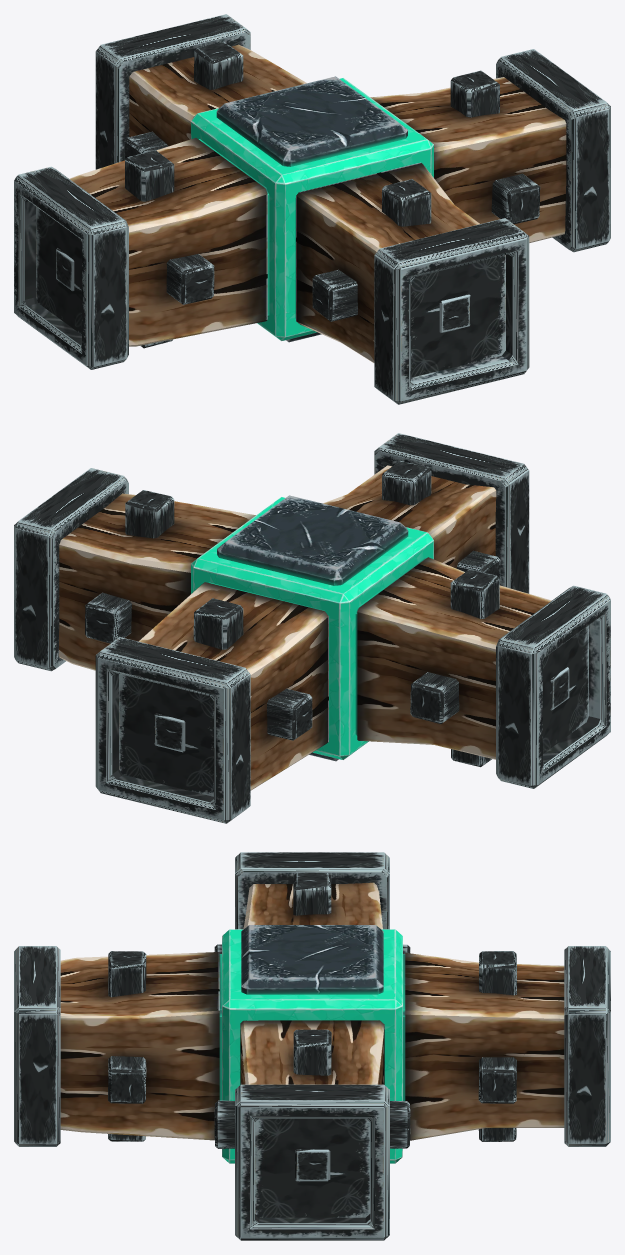
Rendered from step_005.glb.
The picture shows the model from 3 angles, top to bottom: view 1: azimuth 30°, elevation 25°; view 2: azimuth 150°, elevation 25°; view 3: azimuth 270°, elevation 25°; orthographic projection.
Visible parts, largest first — view 1: SingleWoodenBlock_27d09ec1-9df3-475f-a4f9-4b6f61505be6, StartingBlock_71495246-291b-49d8-9ca8-68c87e015d7b; view 2: SingleWoodenBlock_27d09ec1-9df3-475f-a4f9-4b6f61505be6, StartingBlock_71495246-291b-49d8-9ca8-68c87e015d7b; view 3: SingleWoodenBlock_27d09ec1-9df3-475f-a4f9-4b6f61505be6, StartingBlock_71495246-291b-49d8-9ca8-68c87e015d7b.
Boxes of the visible parts, x1,y1,x2,y2 form: SingleWoodenBlock_27d09ec1-9df3-475f-a4f9-4b6f61505be6: [14, 14, 610, 404]; StartingBlock_71495246-291b-49d8-9ca8-68c87e015d7b: [191, 76, 433, 342]; SingleWoodenBlock_27d09ec1-9df3-475f-a4f9-4b6f61505be6: [14, 433, 610, 823]; StartingBlock_71495246-291b-49d8-9ca8-68c87e015d7b: [191, 495, 433, 761]; SingleWoodenBlock_27d09ec1-9df3-475f-a4f9-4b6f61505be6: [14, 852, 610, 1240]; StartingBlock_71495246-291b-49d8-9ca8-68c87e015d7b: [219, 925, 405, 1163].
Bounding box in the file's own units: 3.22 × 1.13 × 3.22.
2 materials, 2 textured.
